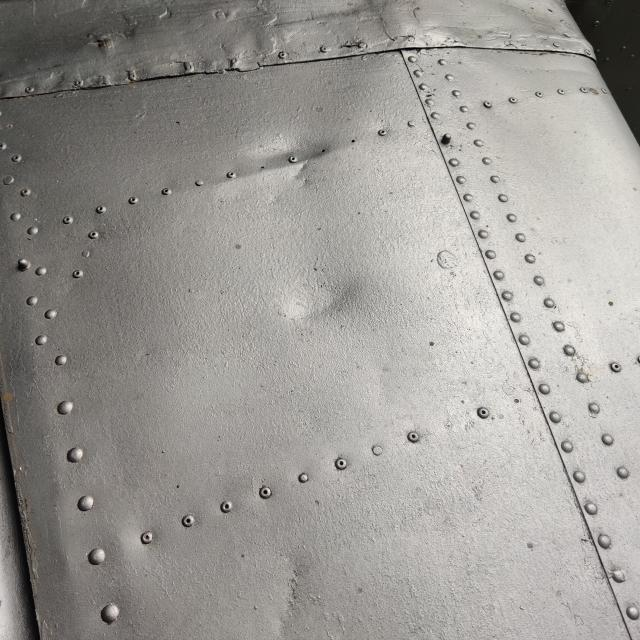dent: (262, 237, 395, 358), (218, 98, 341, 211)
